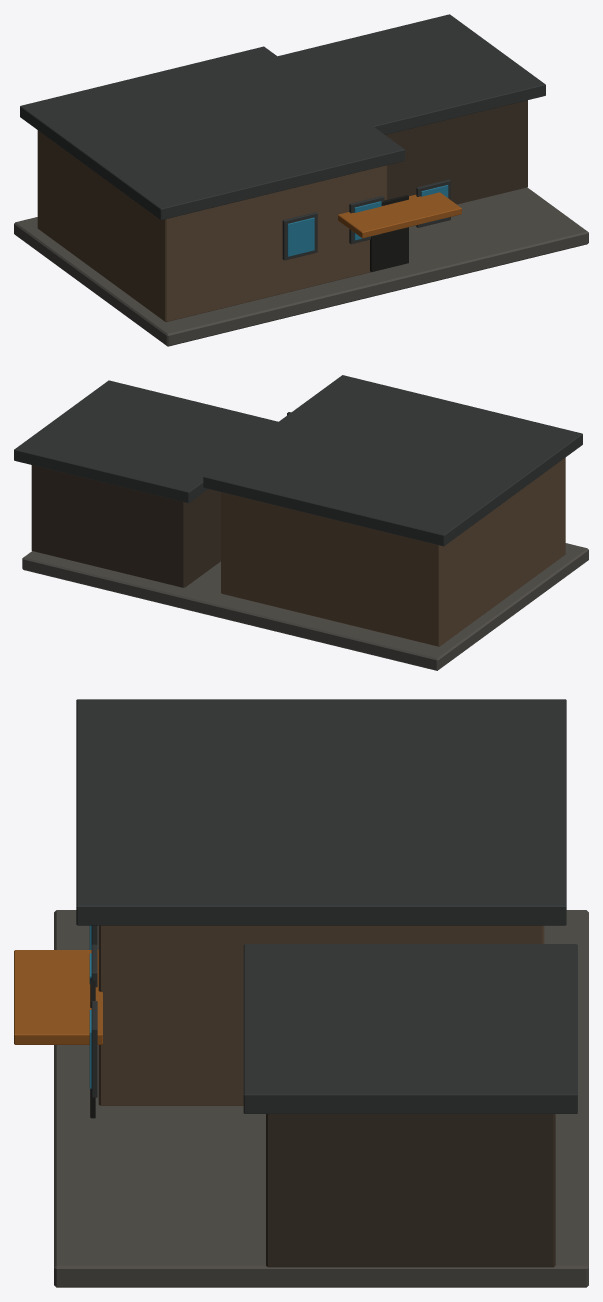
The model's file is BrassWorkerBarracks.glb.
The picture shows the model from 3 angles, top to bottom: view 1: azimuth 30°, elevation 25°; view 2: azimuth 150°, elevation 25°; view 3: azimuth 270°, elevation 25°; orthographic projection. The views are drawn at different scales.
Visible parts, largest first — view 1: BrassWorkerBarracks; view 2: BrassWorkerBarracks; view 3: BrassWorkerBarracks.
Boxes of the visible parts, box(x1,y1,x2,y2) form: BrassWorkerBarracks: box(14, 14, 588, 346); BrassWorkerBarracks: box(14, 375, 588, 670); BrassWorkerBarracks: box(14, 699, 588, 1287).
Bounding box in the file's own units: 39 × 11.5 × 25.8.
1 material, 1 textured.
